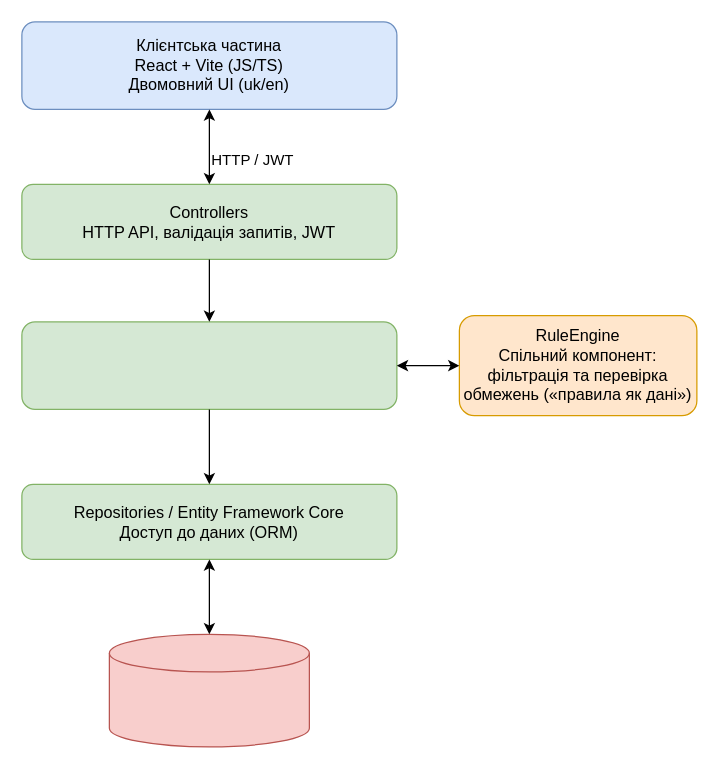
This 719x769 diagram has some shape labels left out. The shapes that lost their labels are listed below. From the top down, each one's box as (x1, y1, x2, y2) in pixels, then its label:
(21, 321, 397, 409): Services Бізнес-логіка за доменами (Food, Health, Finance, Study, Work…)
(108, 633, 309, 747): СУБД MySQL (~60 таблиць)
